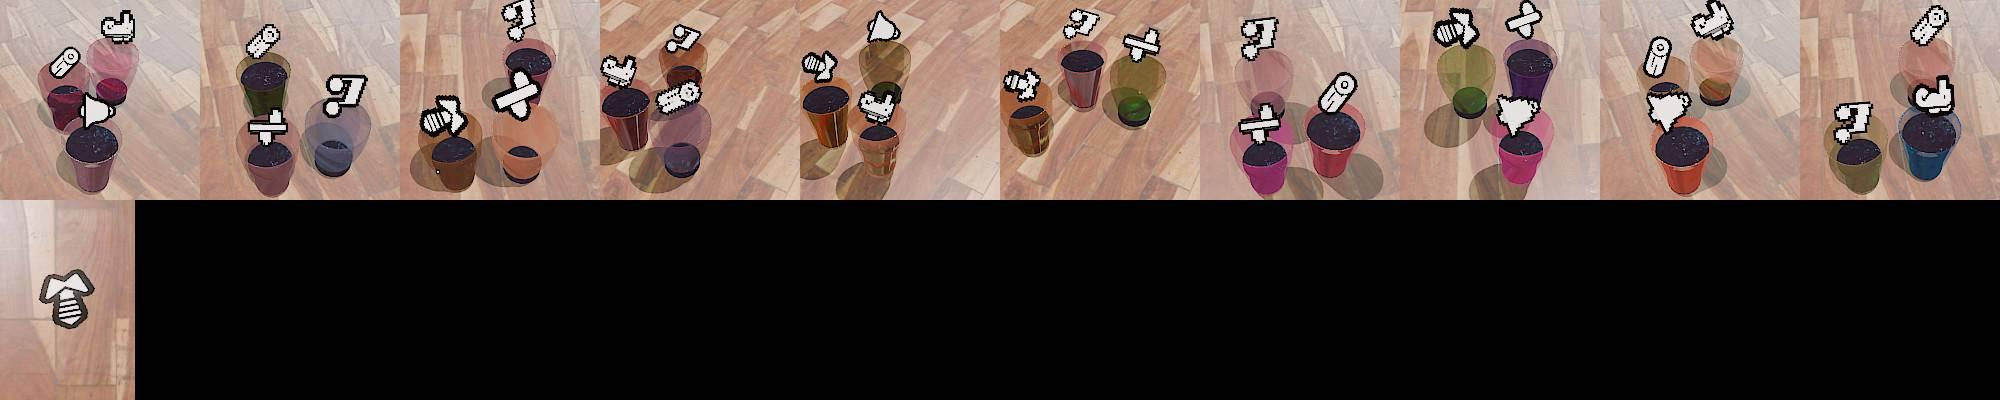icon: (39, 269, 96, 331), (492, 69, 541, 120), (1646, 90, 1694, 139), (1494, 92, 1543, 138), (1432, 6, 1481, 51), (421, 94, 468, 139), (322, 73, 369, 118), (1238, 103, 1282, 148), (1689, 0, 1735, 41), (1239, 15, 1280, 61), (1911, 72, 1954, 115), (655, 79, 703, 117), (1833, 99, 1874, 143), (1317, 70, 1357, 114), (1911, 5, 1950, 48), (857, 86, 900, 124), (248, 107, 289, 146), (1505, 1, 1544, 40), (501, 0, 537, 41), (1002, 67, 1043, 103), (1122, 26, 1161, 63), (80, 90, 117, 129), (244, 23, 281, 61), (1062, 7, 1102, 41), (800, 50, 838, 85), (600, 54, 638, 89), (1643, 36, 1673, 79), (664, 22, 703, 55), (100, 9, 136, 44), (866, 10, 901, 44), (50, 47, 81, 79)
